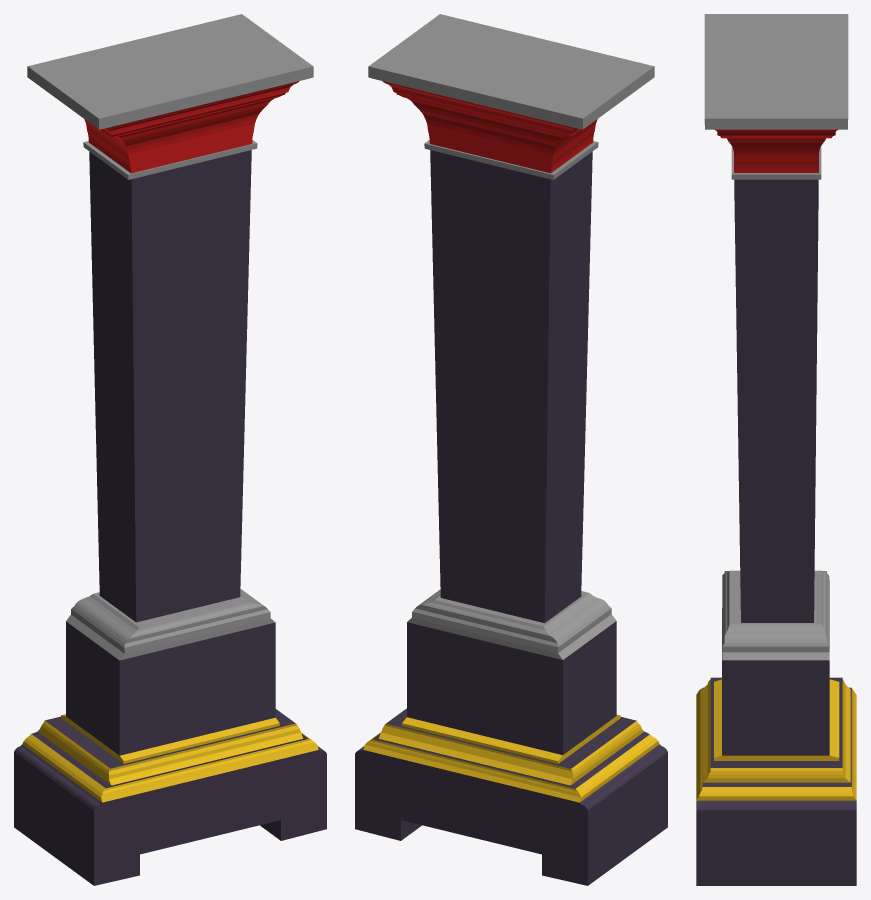
File: socle.FBX
3 renders of one model, left to right at view 1: azimuth 30°, elevation 25°; view 2: azimuth 150°, elevation 25°; view 3: azimuth 270°, elevation 25°, orthographic.
Visible parts, largest first — view 1: Box001; view 2: Box001; view 3: Box001.
Boxes of the visible parts, x1,y1,x2,y2 form: Box001: (14,14,326,885); Box001: (355,14,667,885); Box001: (696,14,856,885).
Bounding box in the file's own units: 21 × 65.72 × 12.5.
